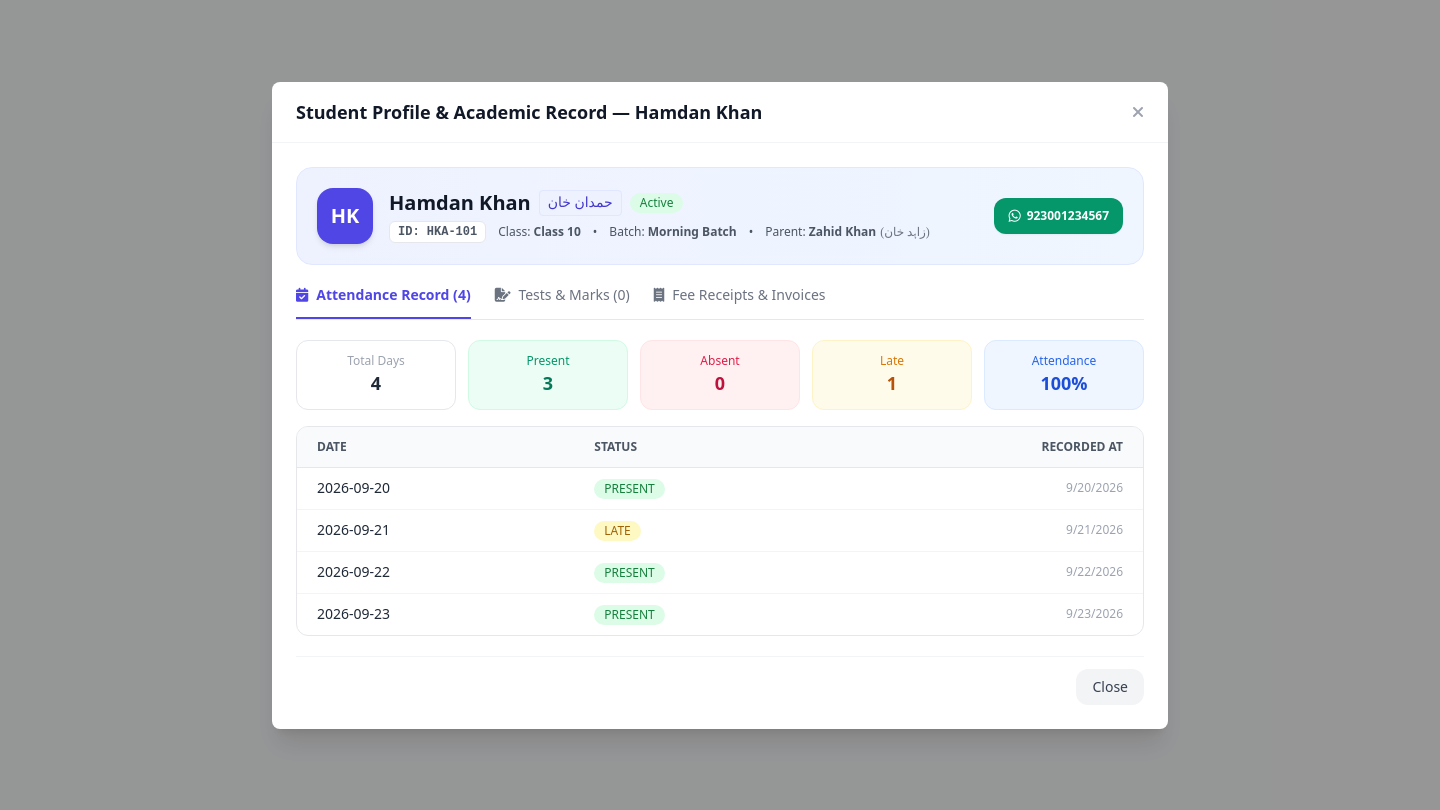
Test: StudentDetailModal — Attendance & Simplified Fee Voucher › renders simplified Fees tab without fines, with previous fee records and circular PAID stamp
The image size is (1440, 810).
Switch to Fees tab
Click the button "Fee Receipts & Invoices".
click(740, 302)  # box [654,284,826,318]
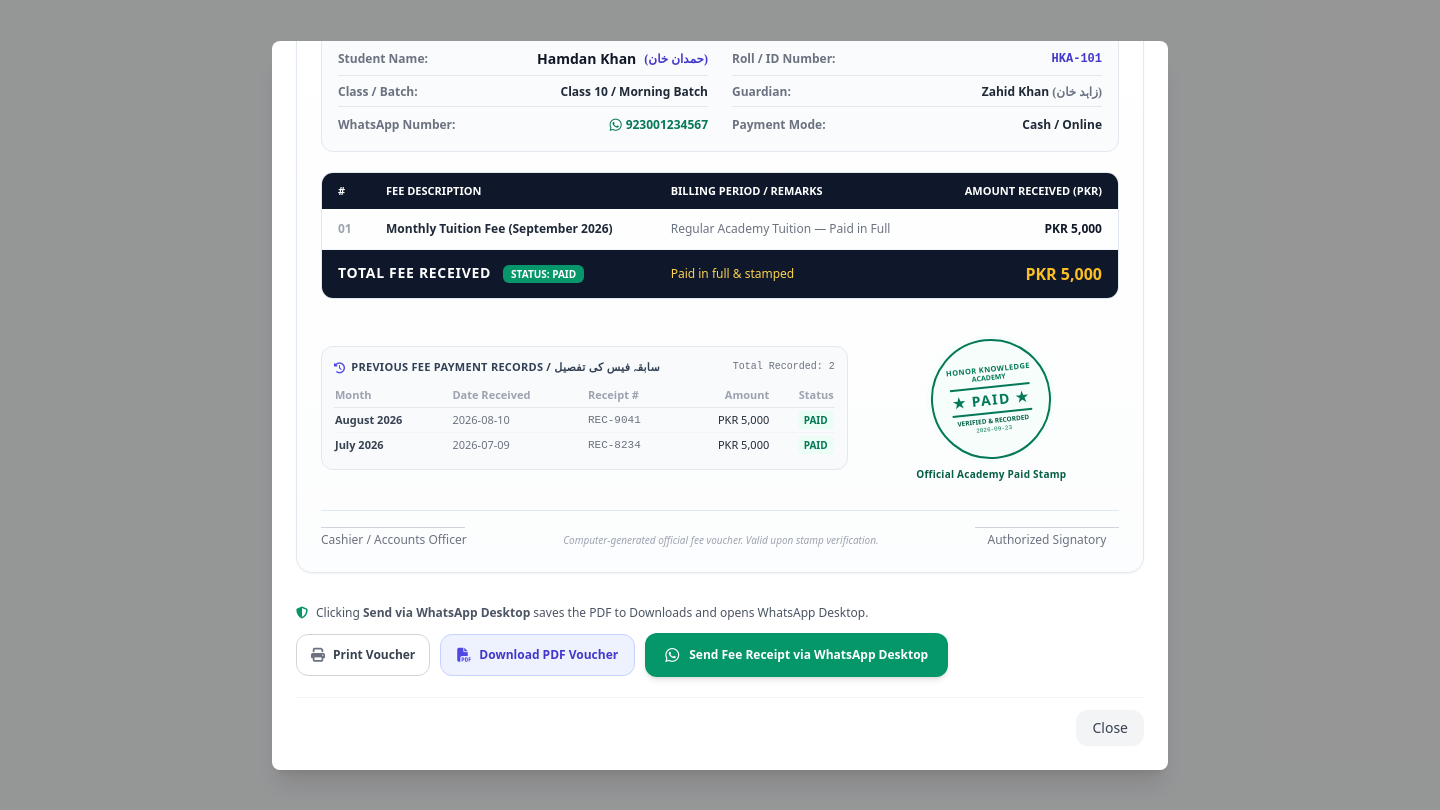
Expected: the text "Previous Fee Payment Records / سابقہ فیس کی تفصیل" is shown, [351,359,660,375]
Expected: the text "★ PAID ★" is shown, [952,385,1031,413]
Expected: the text "Official Academy Paid Stamp" is shown, [916,466,1066,482]
